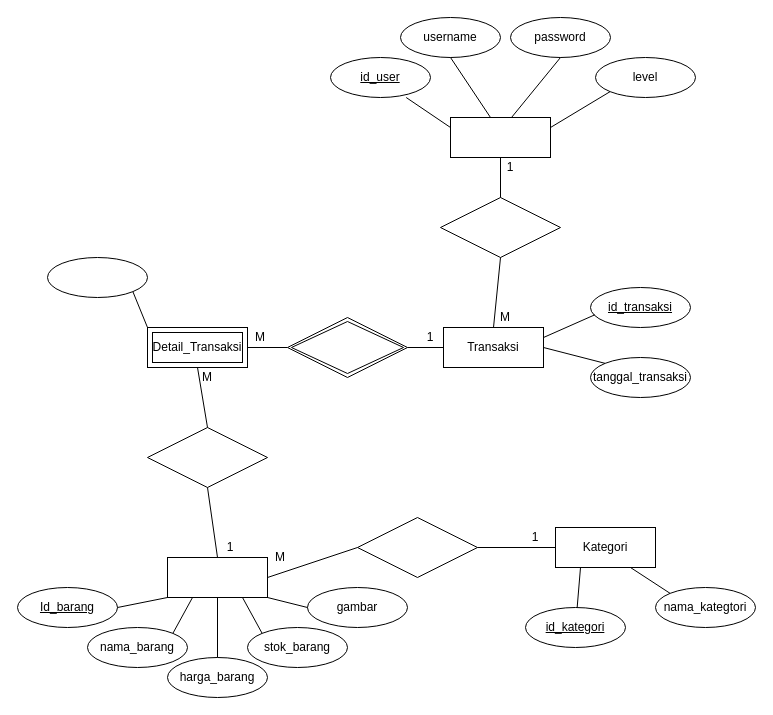
Some shapes in this 773 by 715 pixel diagram are drawn without their labels. Here are the shapes that lost their labels. From the top down, the box of each, then its label:
(450, 116, 550, 158): User
(440, 196, 560, 258): Melakukan
(46, 256, 148, 298): qty
(286, 316, 408, 378): Memuat
(146, 426, 268, 488): Terdiri
(356, 516, 478, 578): Memiliki
(166, 556, 268, 598): Barang
